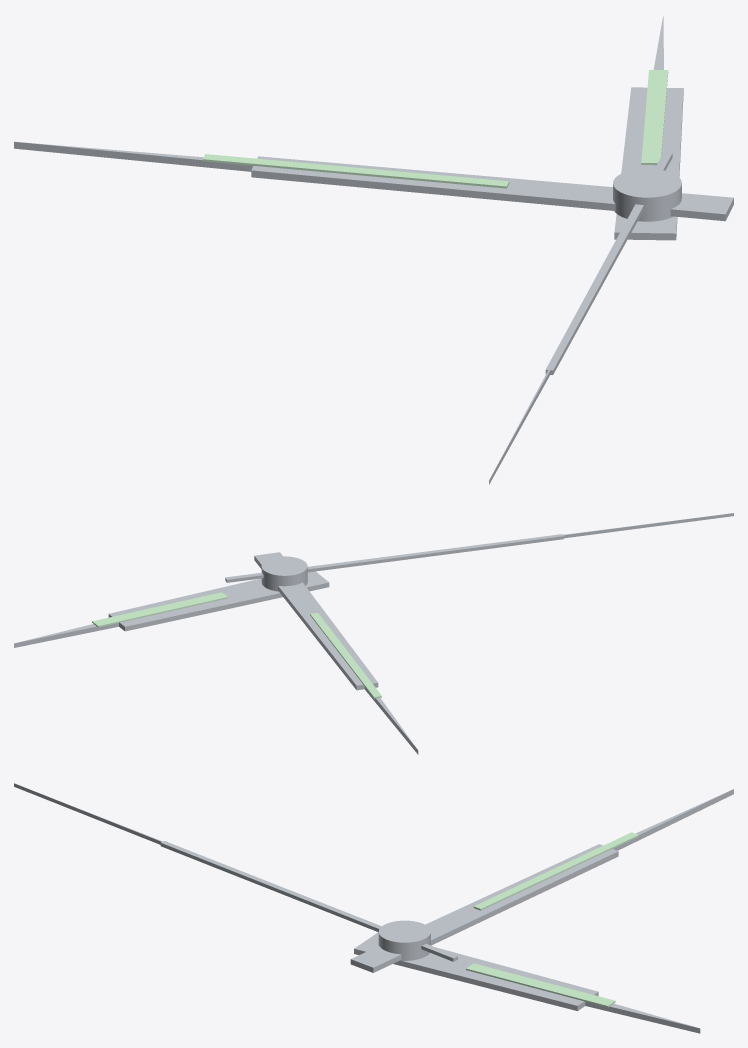
Rendered from hands-syringe-42.glb.
3 renders of one model, top to bottom at view 1: azimuth 30°, elevation 25°; view 2: azimuth 150°, elevation 25°; view 3: azimuth 270°, elevation 25°, orthographic. The views are drawn at different scales.
Visible parts, largest first — view 1: DD_HAND_MINUTE, DD_HAND_HOUR, DD_HAND_HUB, DD_HAND_SECONDS, DD_HAND_MINUTE_LUME, DD_HAND_HOUR_LUME; view 2: DD_HAND_HOUR, DD_HAND_MINUTE, DD_HAND_SECONDS, DD_HAND_HUB, DD_HAND_HOUR_LUME, DD_HAND_MINUTE_LUME; view 3: DD_HAND_MINUTE, DD_HAND_HOUR, DD_HAND_SECONDS, DD_HAND_HUB, DD_HAND_HOUR_LUME, DD_HAND_MINUTE_LUME.
Part boxes in pixels (<box>): DD_HAND_MINUTE: <box>14,141,733,221</box>; DD_HAND_HOUR: <box>614,16,683,240</box>; DD_HAND_HUB: <box>613,168,681,221</box>; DD_HAND_SECONDS: <box>489,152,672,484</box>; DD_HAND_MINUTE_LUME: <box>202,154,509,188</box>; DD_HAND_HOUR_LUME: <box>641,70,668,165</box>; DD_HAND_HOUR: <box>14,571,329,647</box>; DD_HAND_MINUTE: <box>254,552,418,754</box>; DD_HAND_SECONDS: <box>225,513,733,582</box>; DD_HAND_HUB: <box>261,556,307,591</box>; DD_HAND_HOUR_LUME: <box>92,592,227,627</box>; DD_HAND_MINUTE_LUME: <box>310,612,381,698</box>; DD_HAND_MINUTE: <box>350,789,733,972</box>; DD_HAND_HOUR: <box>354,932,700,1033</box>; DD_HAND_SECONDS: <box>14,783,457,961</box>; DD_HAND_HUB: <box>378,920,430,960</box>; DD_HAND_HOUR_LUME: <box>466,963,615,1007</box>; DD_HAND_MINUTE_LUME: <box>473,832,638,910</box>.
Size of the model in its own units: 14.21 by 0.685 by 18.59.
